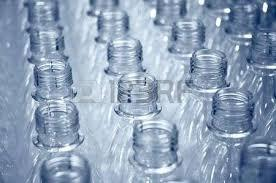Plastic bottle: (3, 5, 276, 183)
